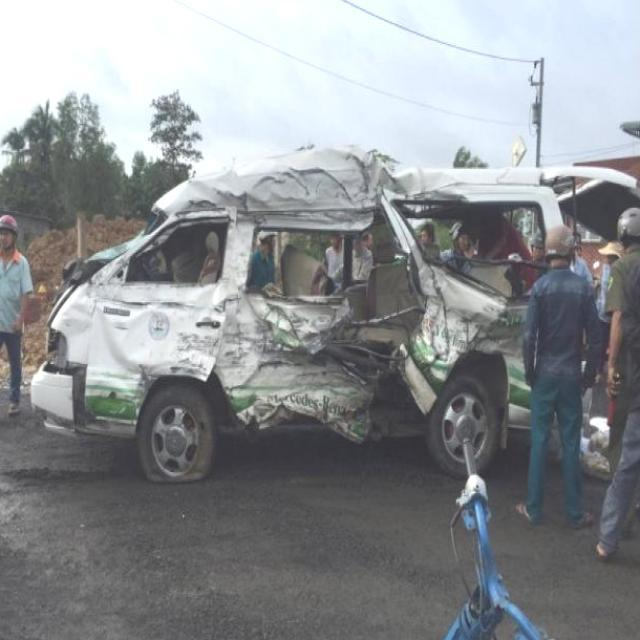accident: (10, 151, 640, 464)
